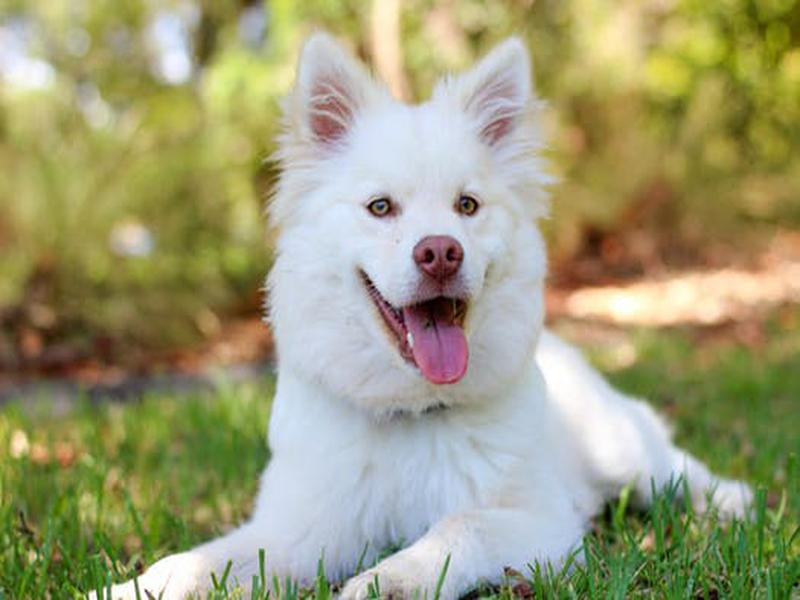dog_down: (84, 32, 757, 600)
